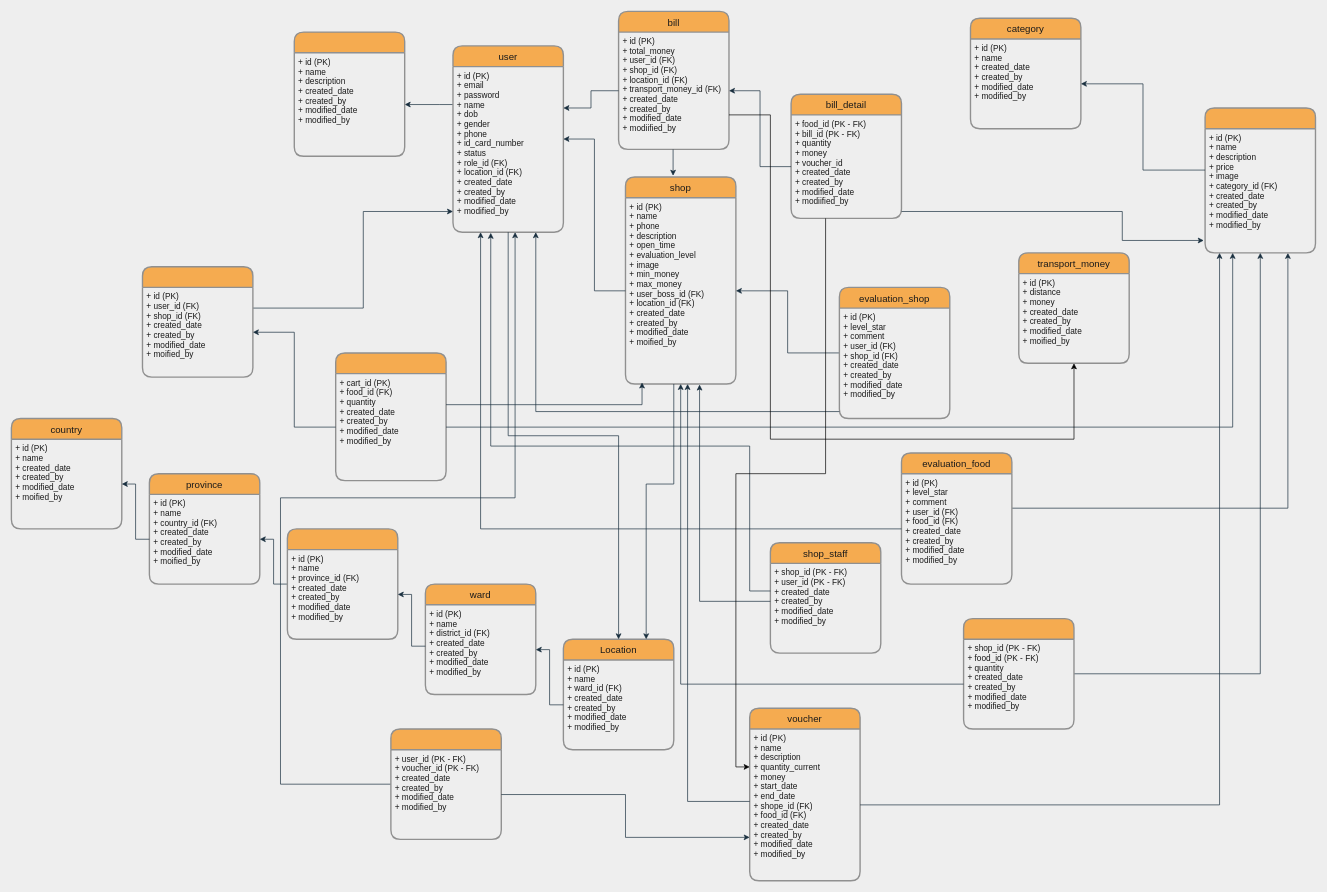
Image size: 1327x892. Some labels were removed from this diagram. The shapes that lost their labels are listed below. From the top down, each one's box as (x1, y1, x2, y2) in pixels, then its label:
(293, 31, 405, 157): role
(1204, 107, 1316, 253): food
(141, 266, 253, 377): cart
(335, 352, 446, 481): cart_detail
(286, 528, 398, 640): district
(963, 618, 1074, 729): shop_food
(390, 728, 502, 840): voucher_user
